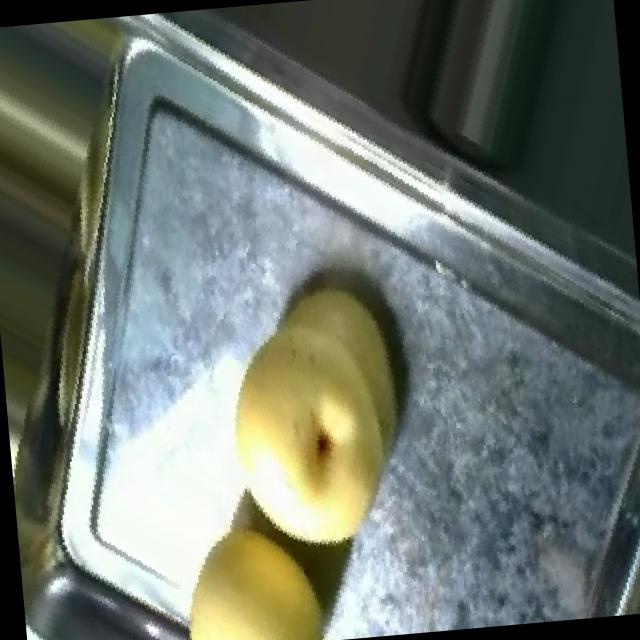Fruit: (188, 256, 447, 574), (146, 497, 356, 640)
